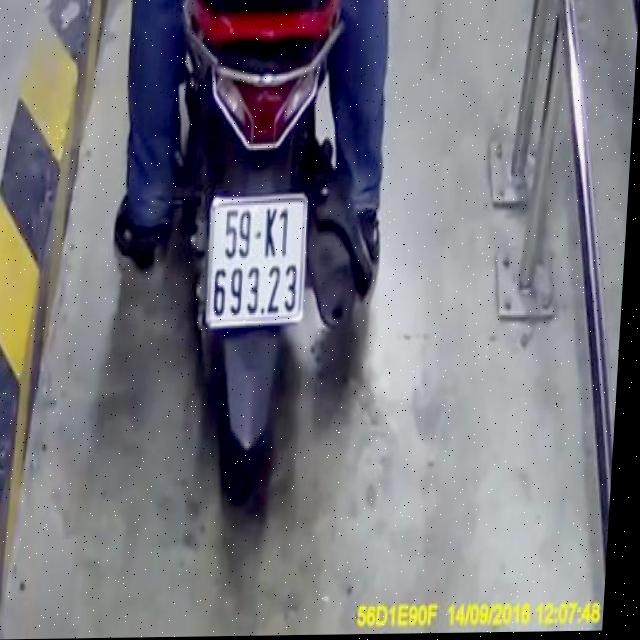motorcycle: (138, 0, 371, 527)
plate: (197, 191, 314, 337)
